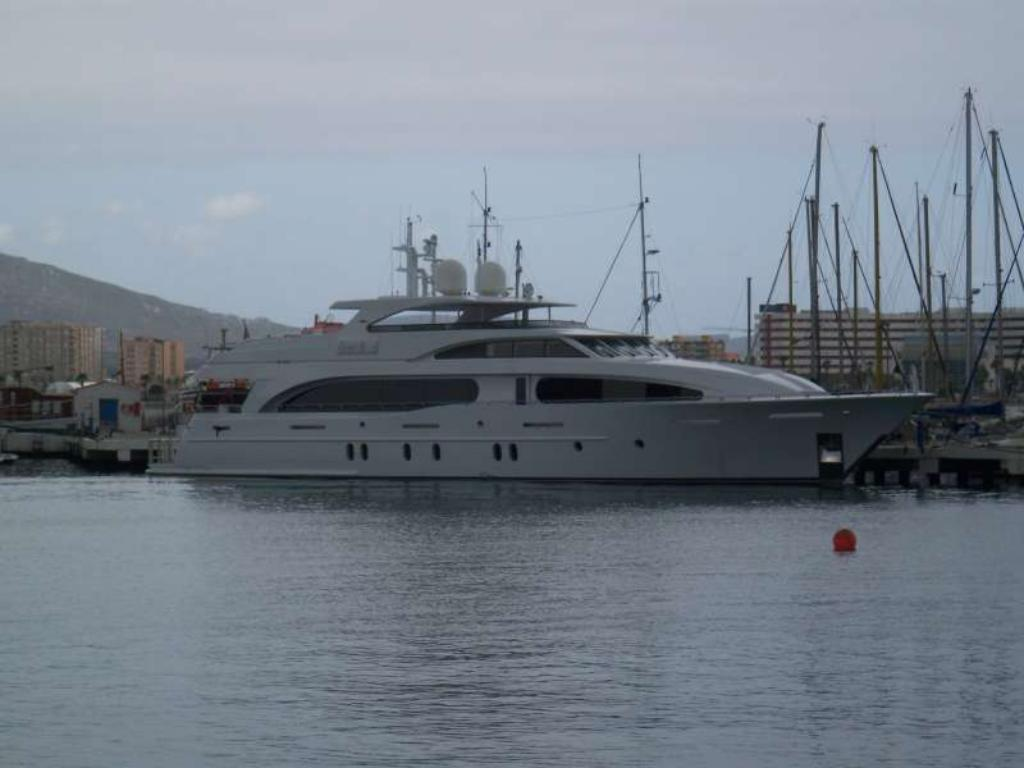PassengerShip: (118, 213, 932, 484)
